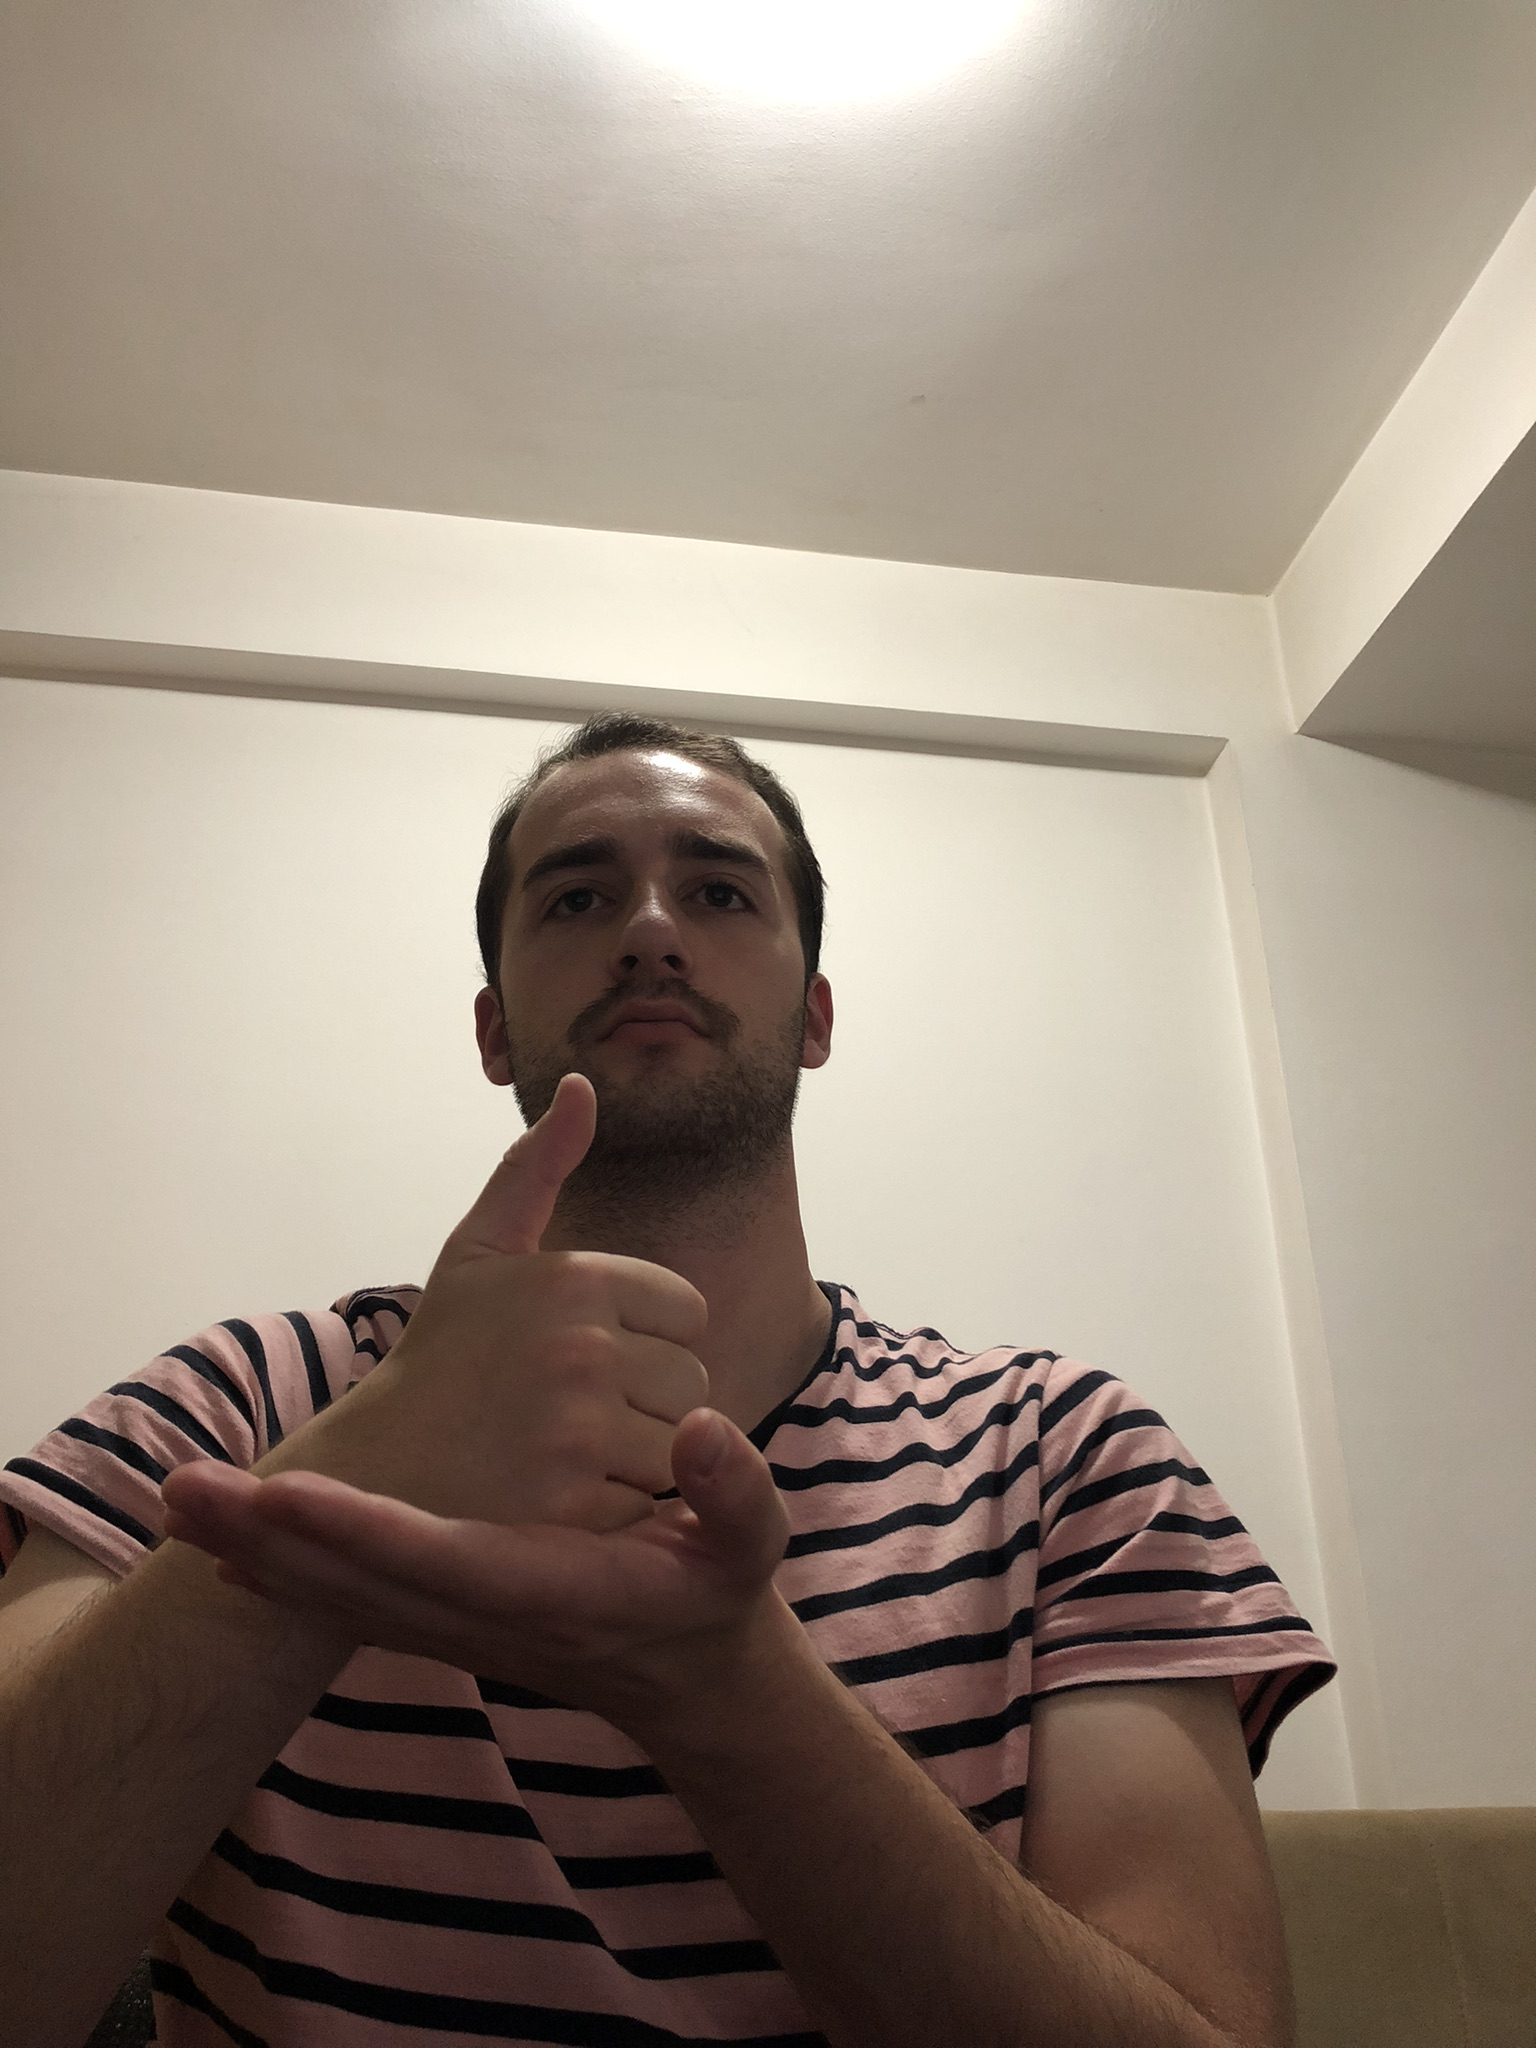Help: (147, 1063, 805, 1714)
